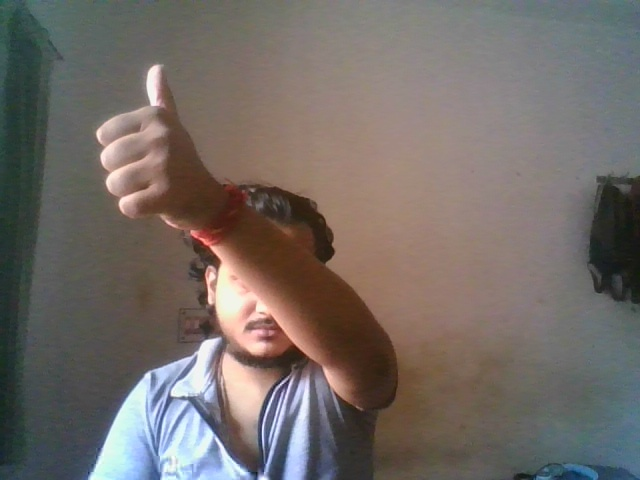ThumbsUp: (94, 63, 196, 232)
